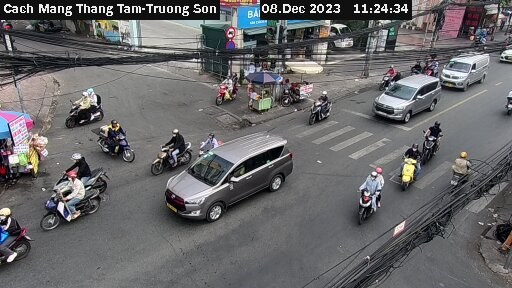car: (168, 129, 304, 235), (371, 75, 444, 123), (442, 52, 491, 92), (498, 41, 512, 64)
motorbike: (43, 183, 103, 227), (353, 173, 393, 226), (1, 202, 35, 264), (92, 122, 141, 162), (142, 132, 194, 166), (59, 161, 113, 193), (65, 94, 116, 127), (392, 145, 429, 185), (301, 89, 343, 119), (414, 125, 451, 156), (445, 152, 477, 187), (209, 80, 243, 104), (377, 69, 395, 86), (504, 92, 512, 113)
